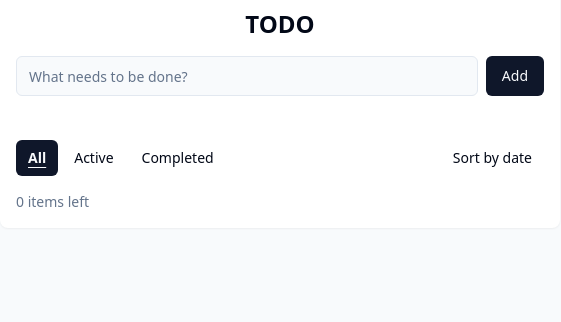
Scenario: A5 — accessible names › New todo input and control buttons have accessible names
This screenshot has width=561, height=322.
In the field named "New todo": (247, 76) [16,56,478,96], type "task"
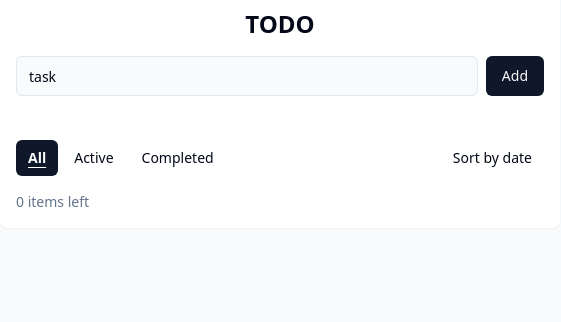
Submit the form named "New todo", box [16,56,544,96]
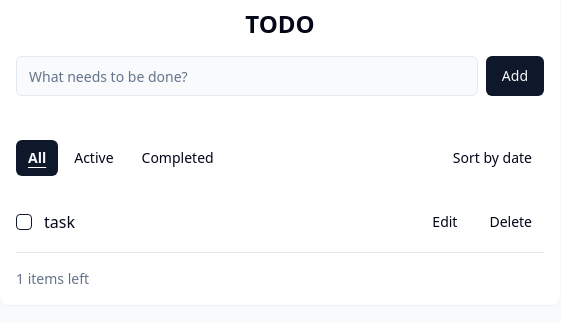
Result: the text "task" is shown at [44,211,75,233]
Result: the button "Edit" is shown at [420,204,470,240]
Result: the button "Delete" is shown at [477,204,544,240]
Click the checkbox named "Toggle complete": click(24, 222) [16,214,32,230]
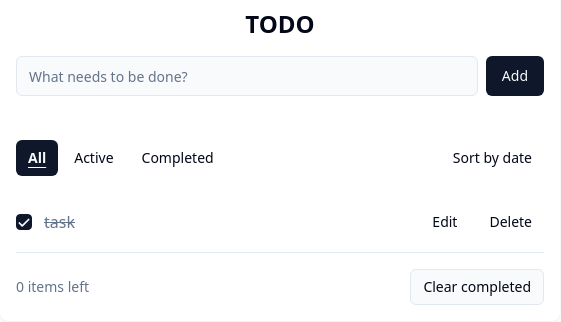
Result: the button "Clear completed" is shown at [410,269,544,305]
